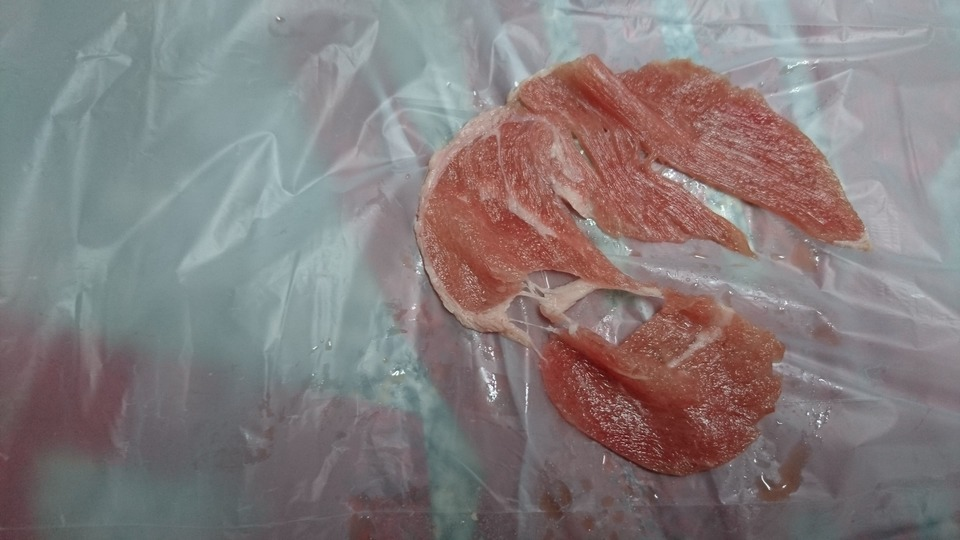restructured meat: (395, 51, 857, 494)
